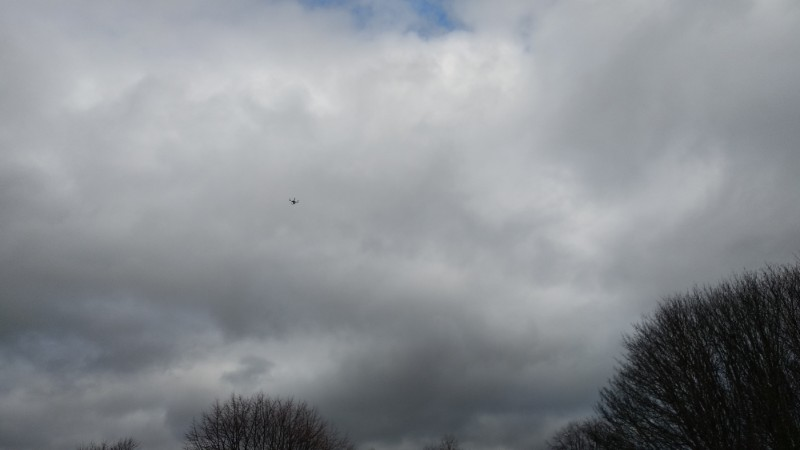drone: (288, 197, 300, 206)
